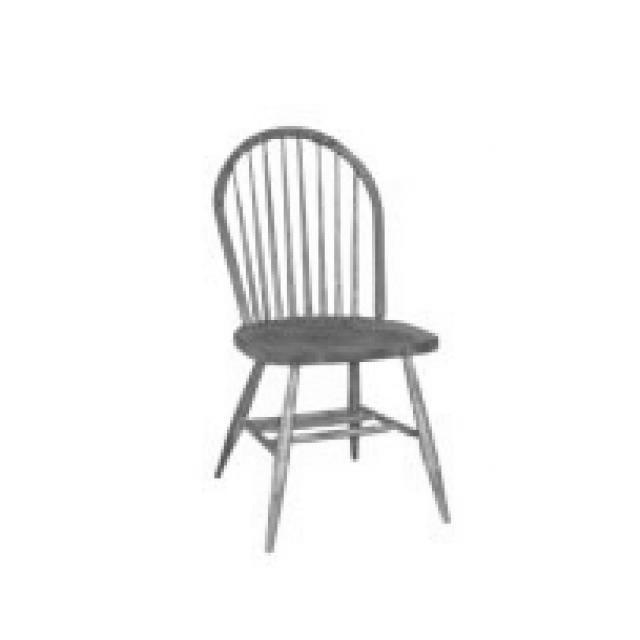chair: (211, 122, 453, 552)
